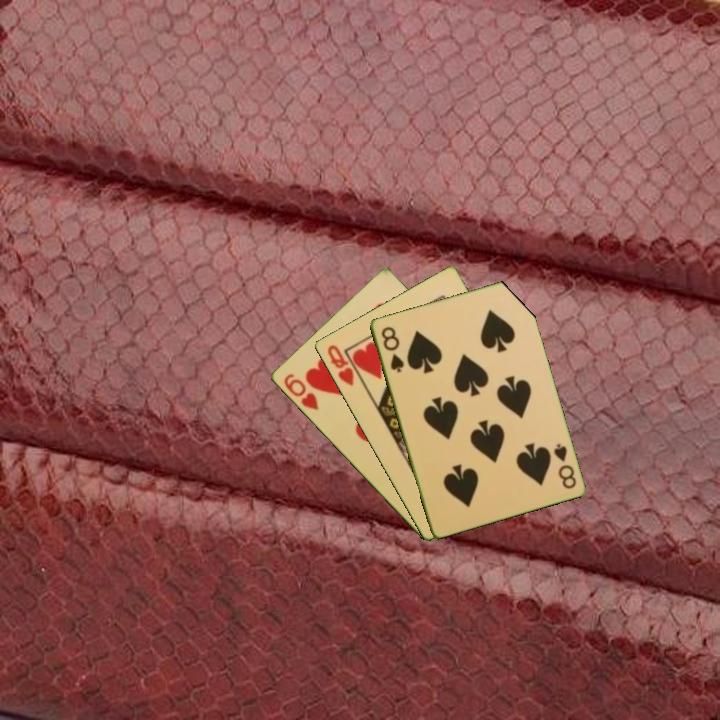6h: (280, 370, 321, 413)
8s: (377, 323, 407, 375), (550, 440, 579, 492)
Qh: (323, 341, 365, 389)
